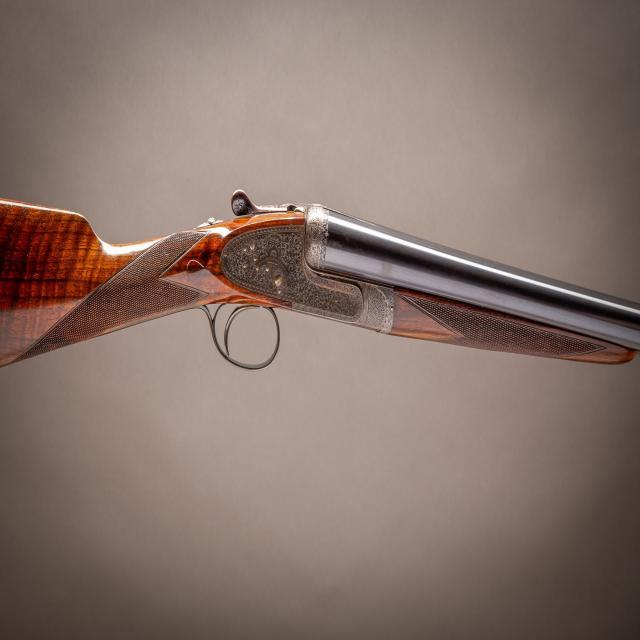shotgun: (1, 146, 640, 453)
